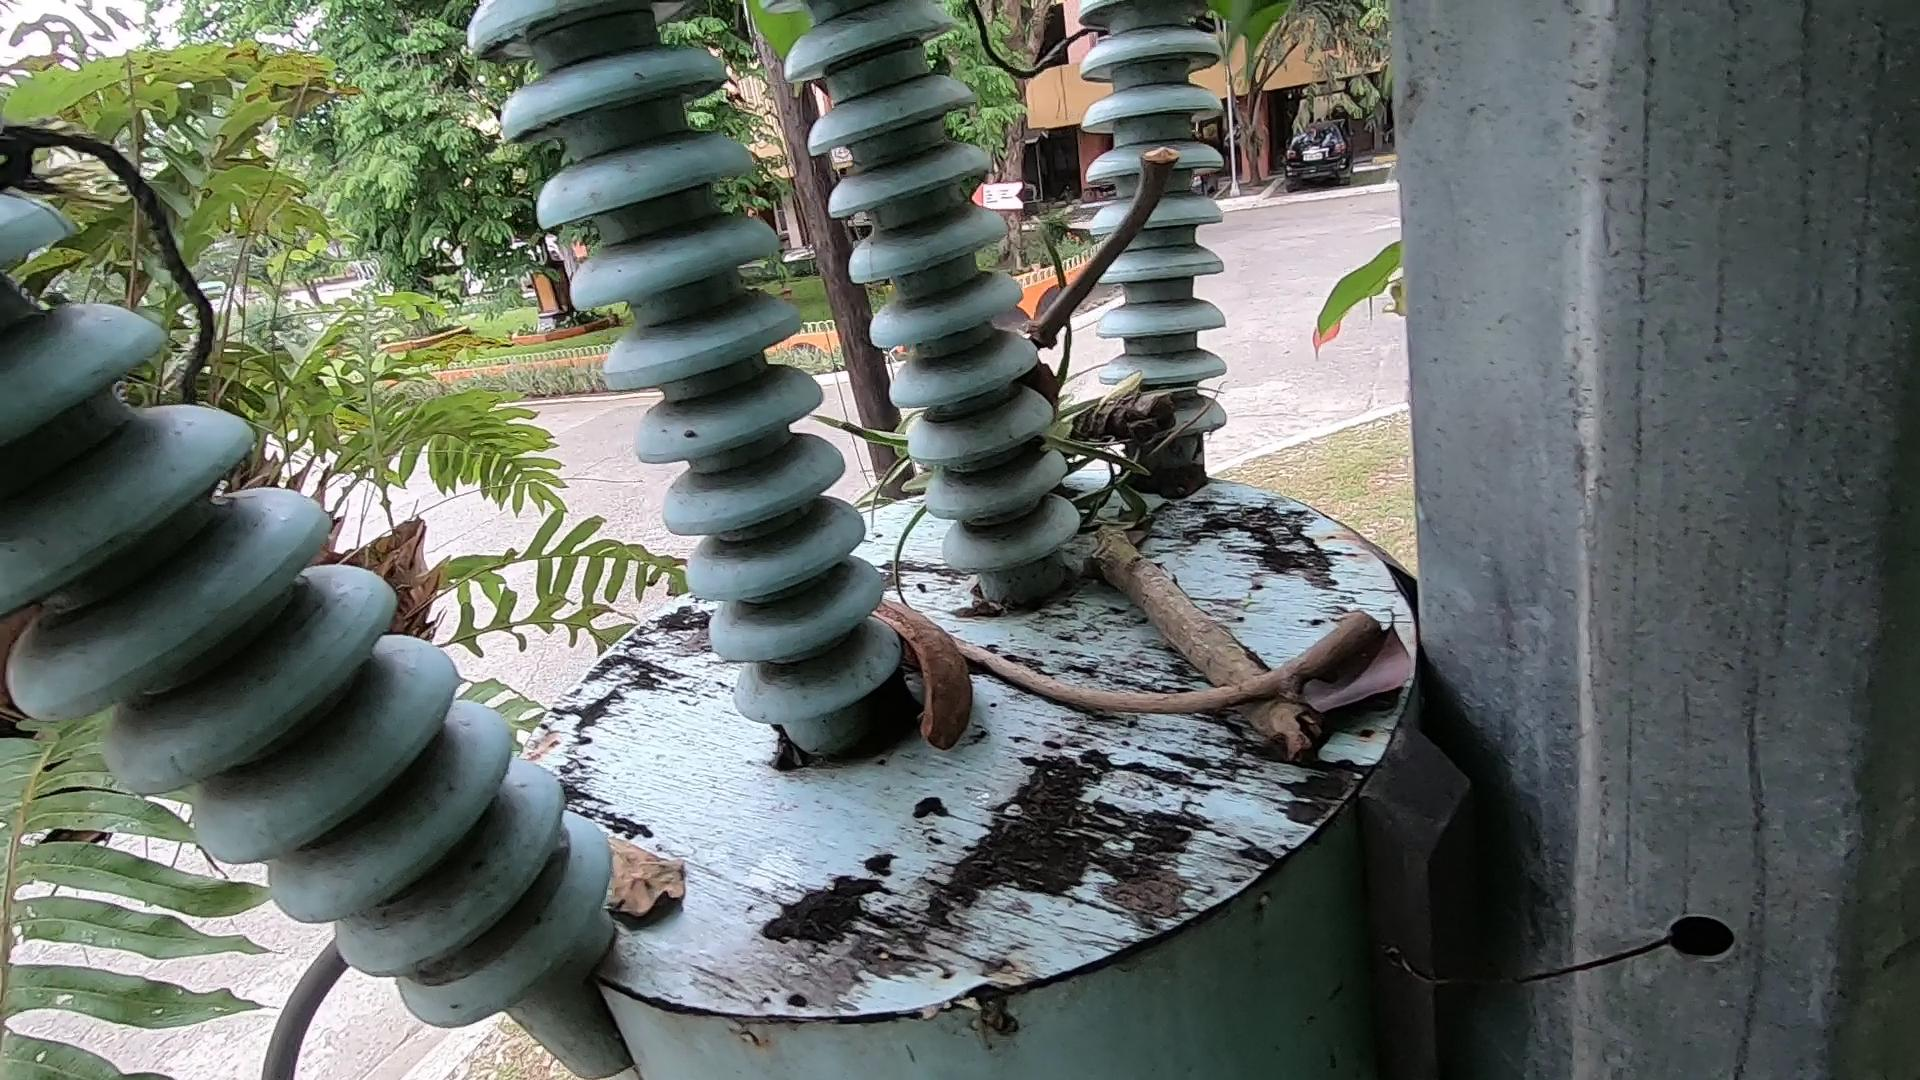branch with leaves: (1018, 324, 1358, 786)
leaf: (1299, 585, 1425, 781), (591, 800, 695, 944)
mahogany fruit: (858, 567, 1014, 782), (1031, 342, 1072, 440)
tree branch: (934, 647, 1370, 746), (1011, 119, 1172, 353)
